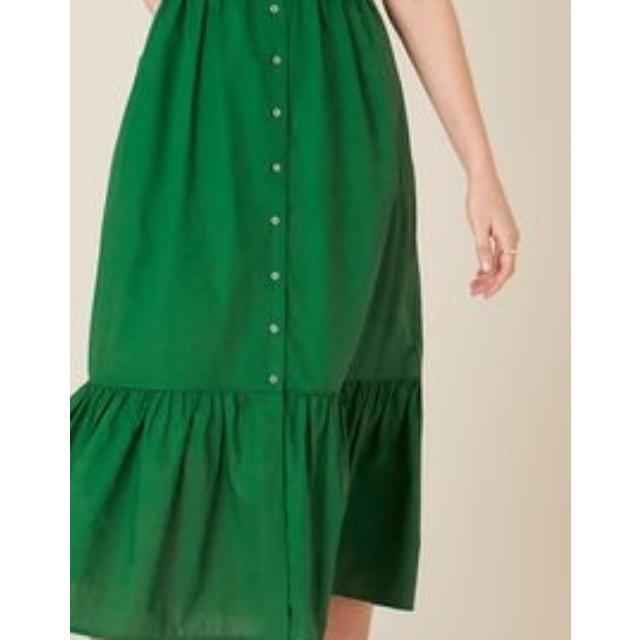cotton: (96, 0, 394, 618)
